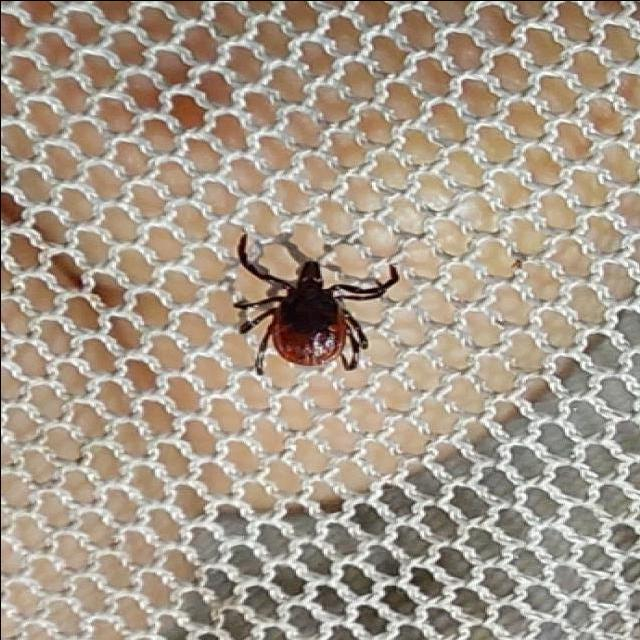Ixodes Ricinus-F: (230, 233, 399, 374)
